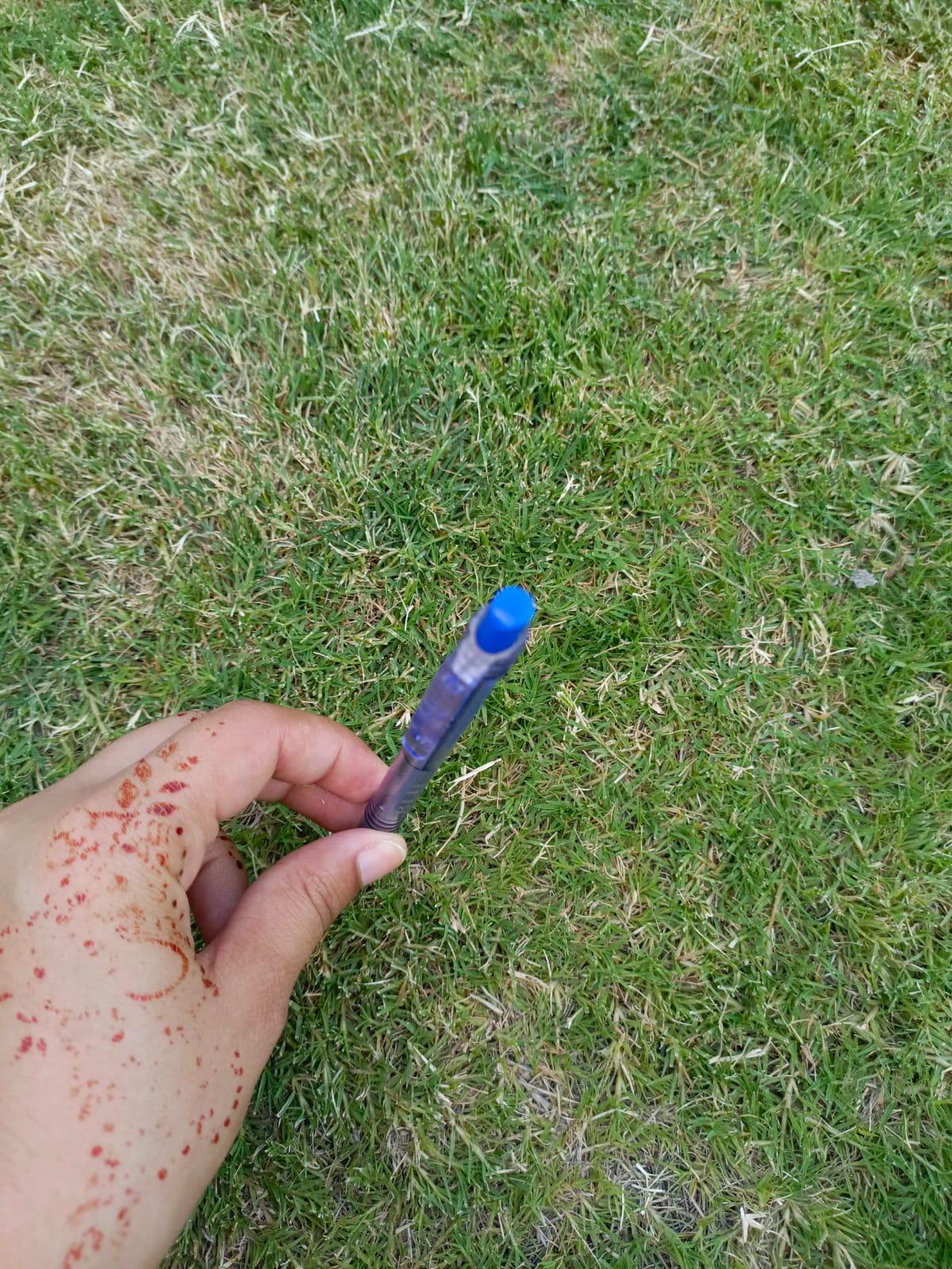ballpoint: (361, 587, 535, 830)
